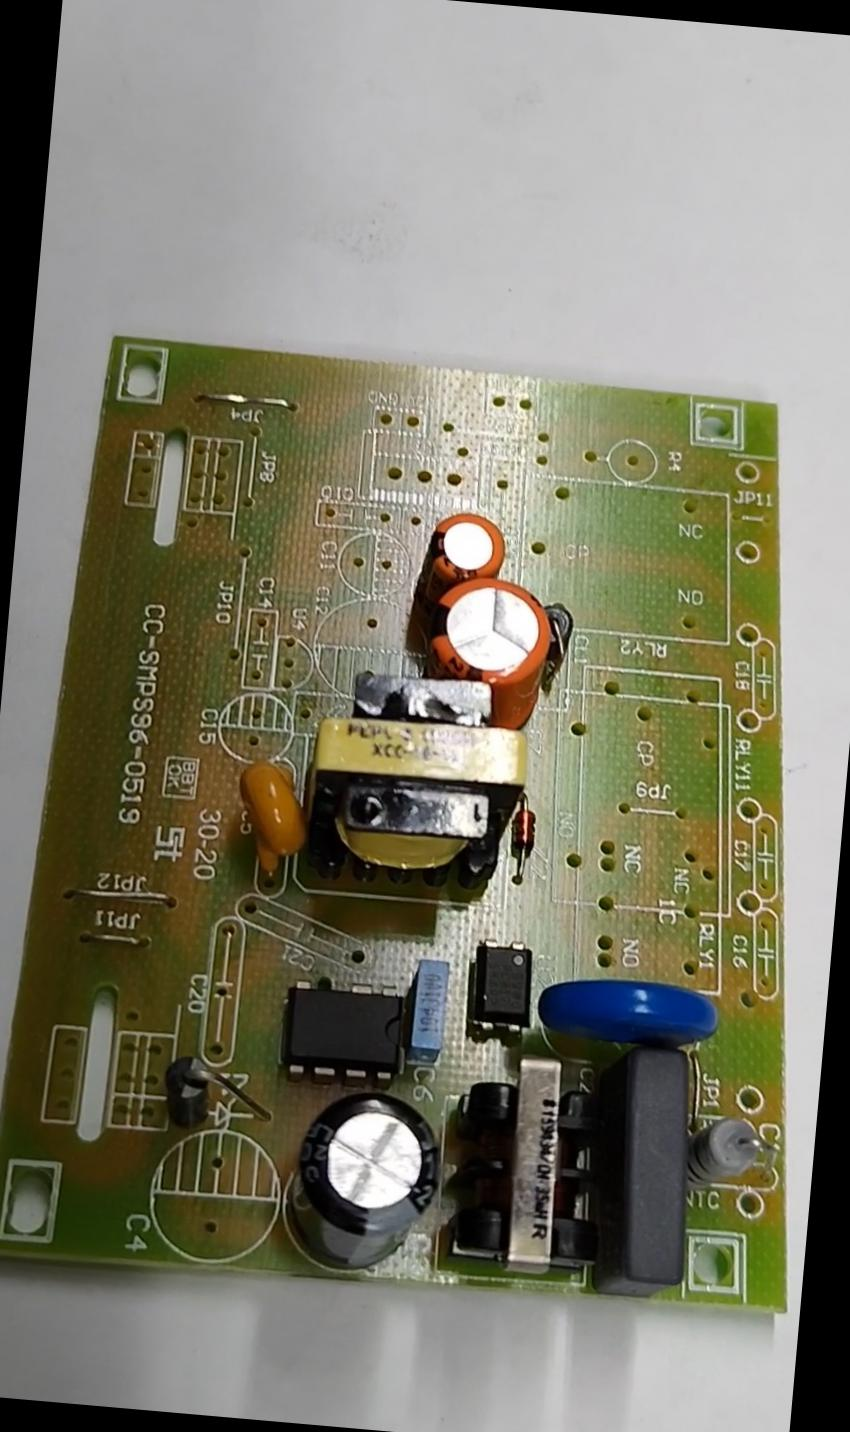Cap1: (425, 578, 552, 694)
Cap2: (425, 510, 506, 584)
Cap3: (289, 1090, 443, 1279)
MOSFET: (282, 977, 408, 1082)
Mov: (537, 977, 719, 1036)
Resistor: (693, 1123, 764, 1182)
Transformer: (315, 671, 532, 882), (446, 1054, 611, 1276)
